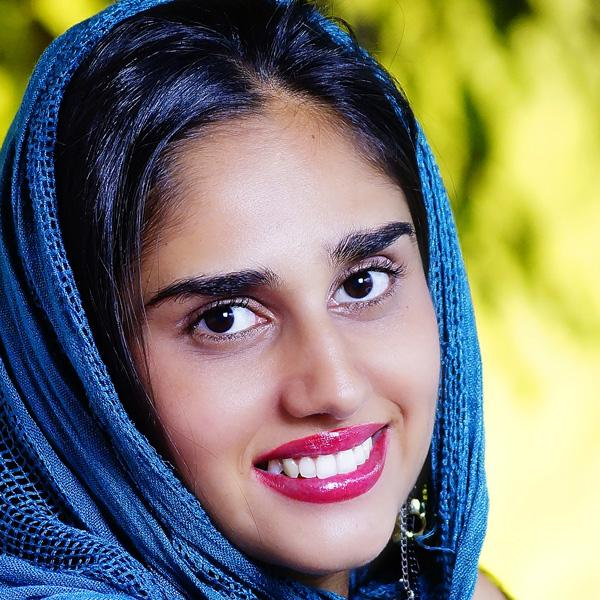Eyes: (172, 286, 283, 354), (319, 248, 408, 319)
